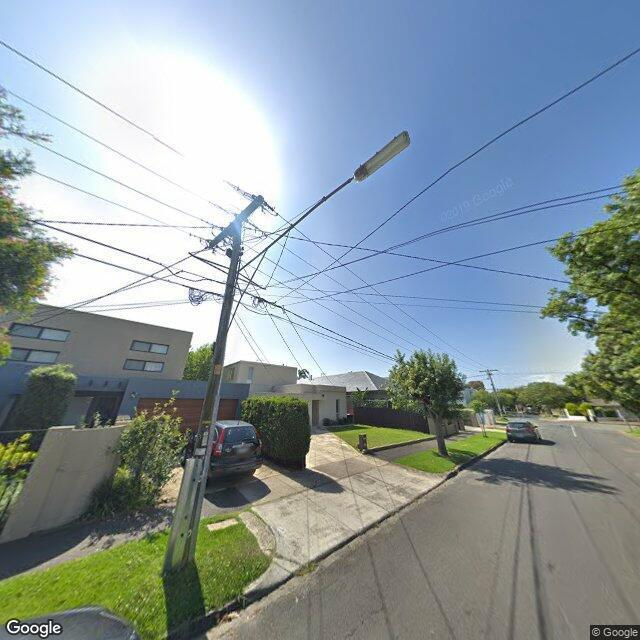crossarm: (189, 182, 280, 254), (479, 370, 498, 372)
streetlight: (237, 130, 411, 275)
timber-pole: (162, 221, 242, 575), (488, 369, 495, 391)
